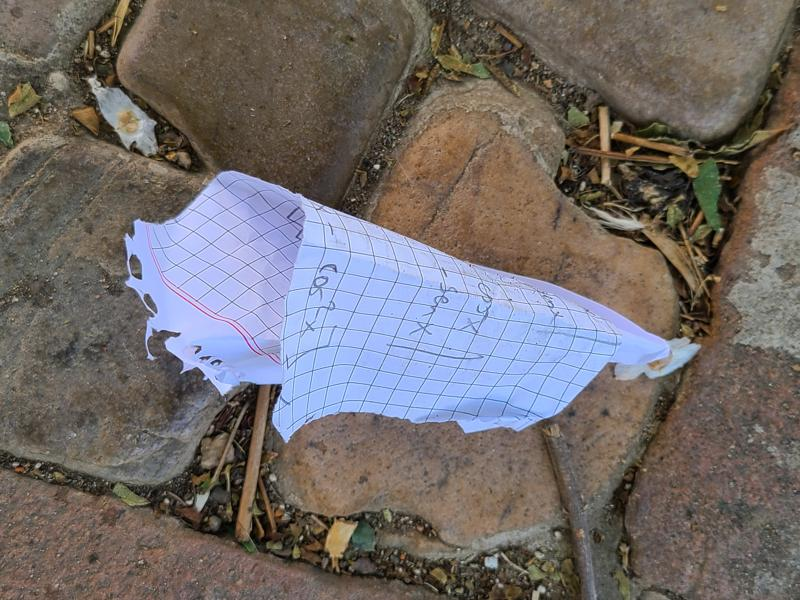papel: (122, 171, 700, 443)
